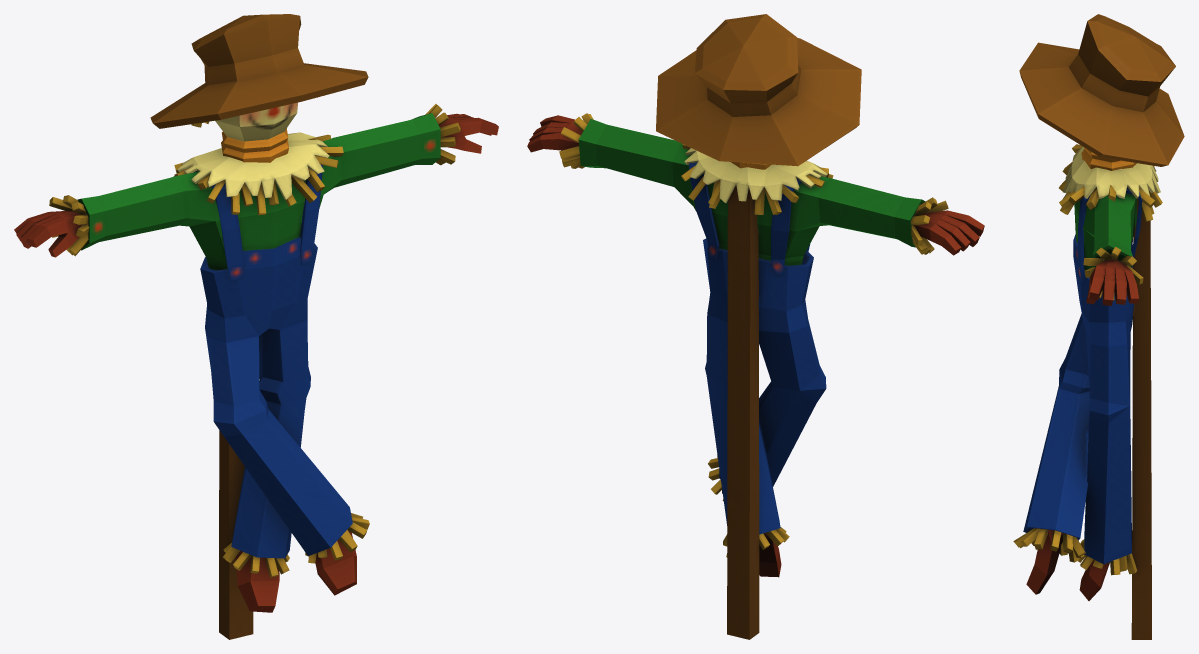
Rendered from ev_scarecrow.glb.
3 views of the same model, side by side, from view 1: azimuth 30°, elevation 25°; view 2: azimuth 150°, elevation 25°; view 3: azimuth 270°, elevation 25° (orthographic). The views are drawn at different scales.
Parts seen in each view (by area): view 1: Scarecrow_mesh; view 2: Scarecrow_mesh; view 3: Scarecrow_mesh.
Part boxes in pixels (x1,y1,x2,y2): Scarecrow_mesh: (14,14,498,639); Scarecrow_mesh: (527,14,984,639); Scarecrow_mesh: (1013,14,1184,639).
Size of the model in its own units: 2.65 by 3.43 by 0.8651.
Materials: 1 (1 with a texture image).
